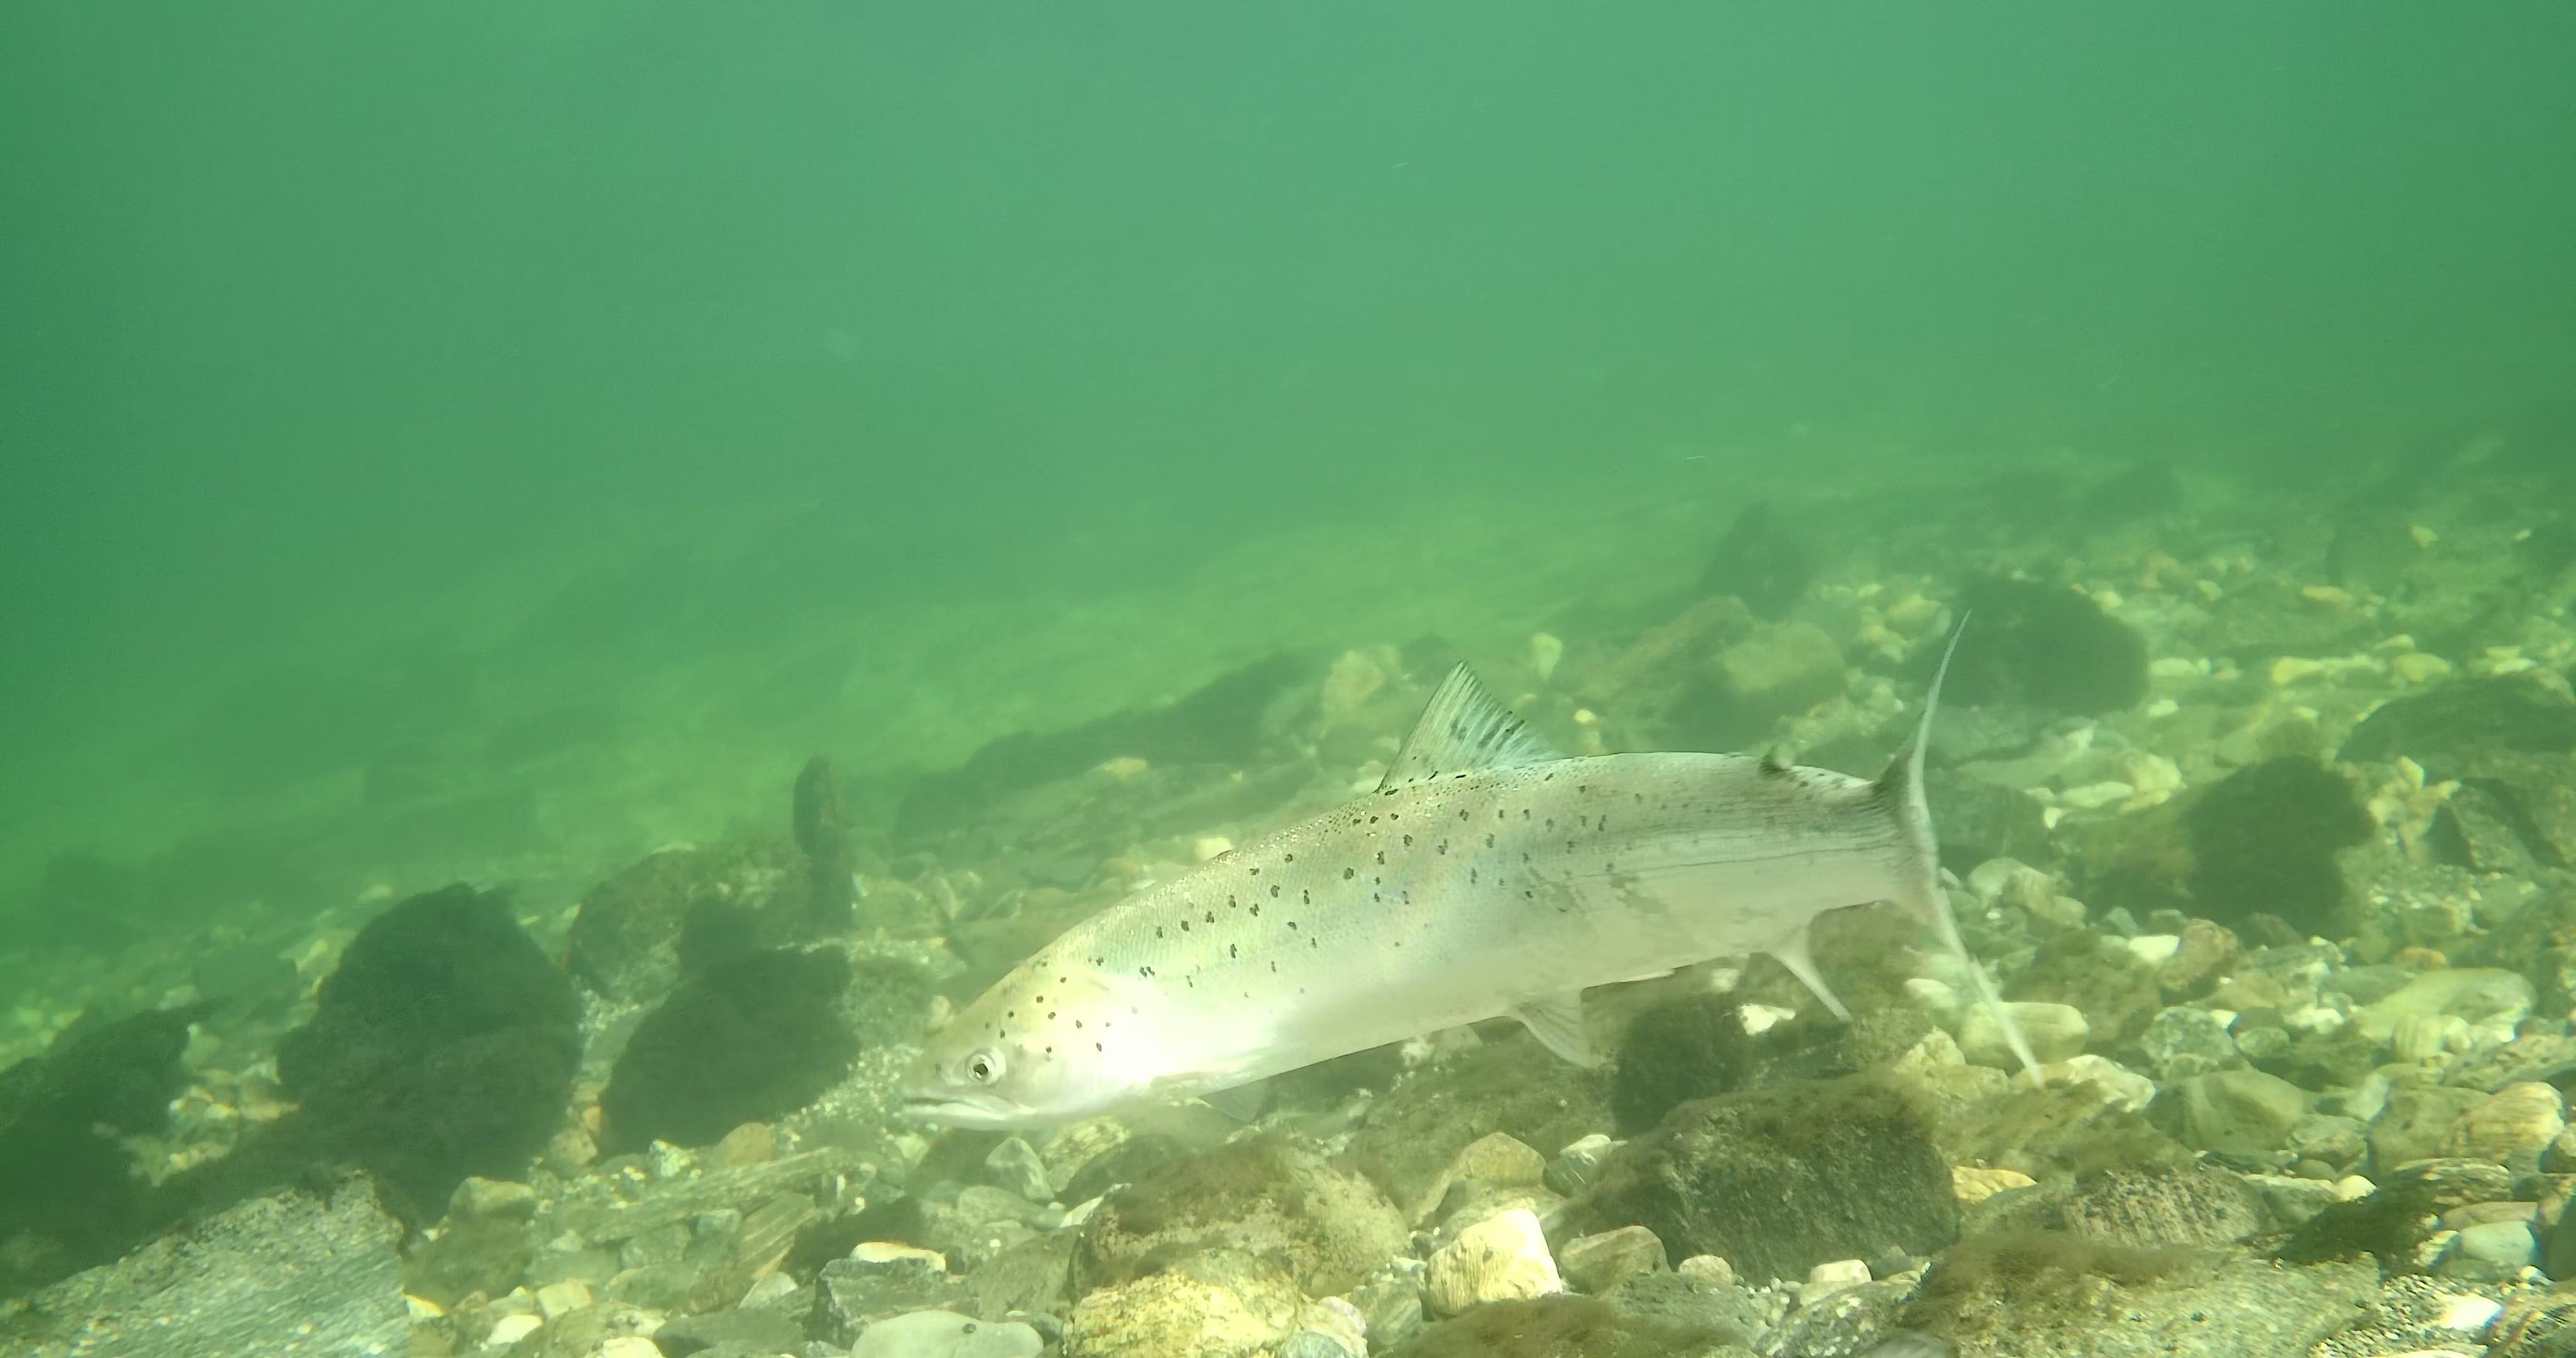salmon: (891, 605, 2053, 1138)
